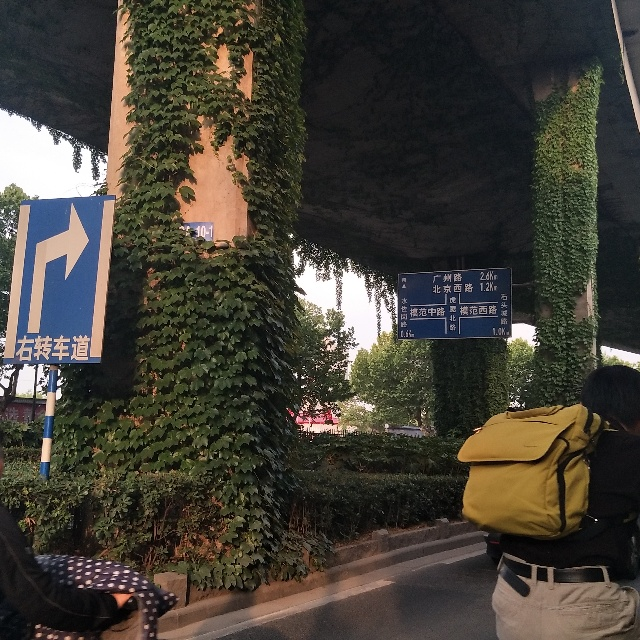right: (14, 198, 97, 330)
